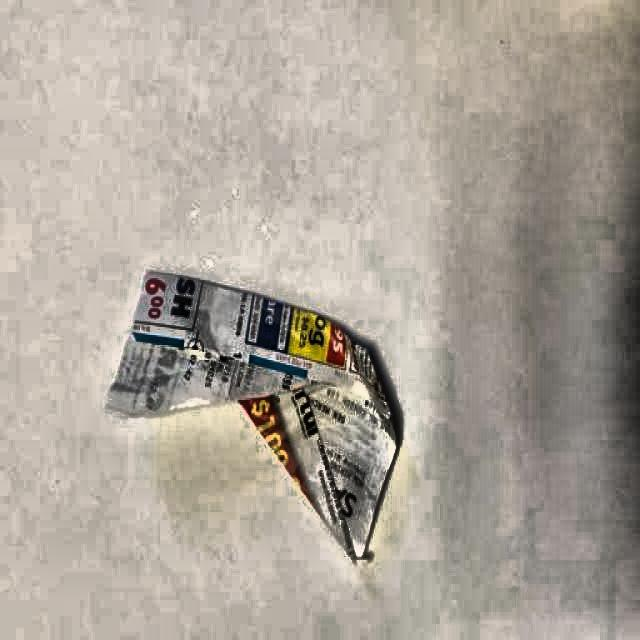Paper: (103, 269, 397, 564)
